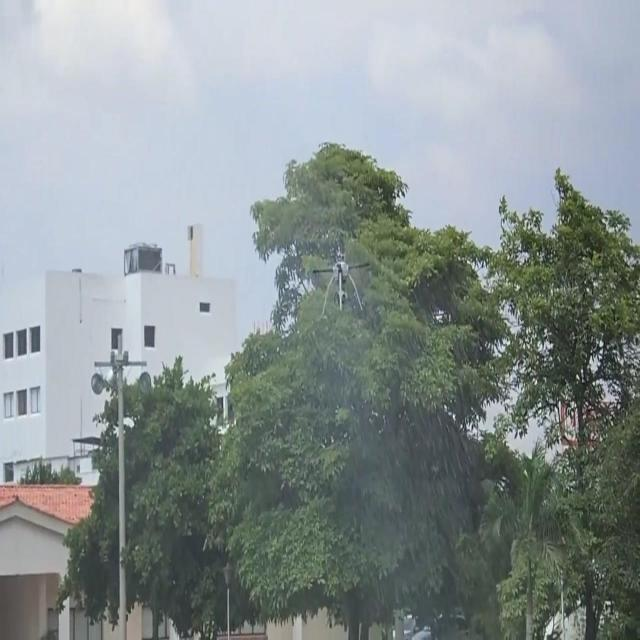UAV: (313, 246, 369, 315)
